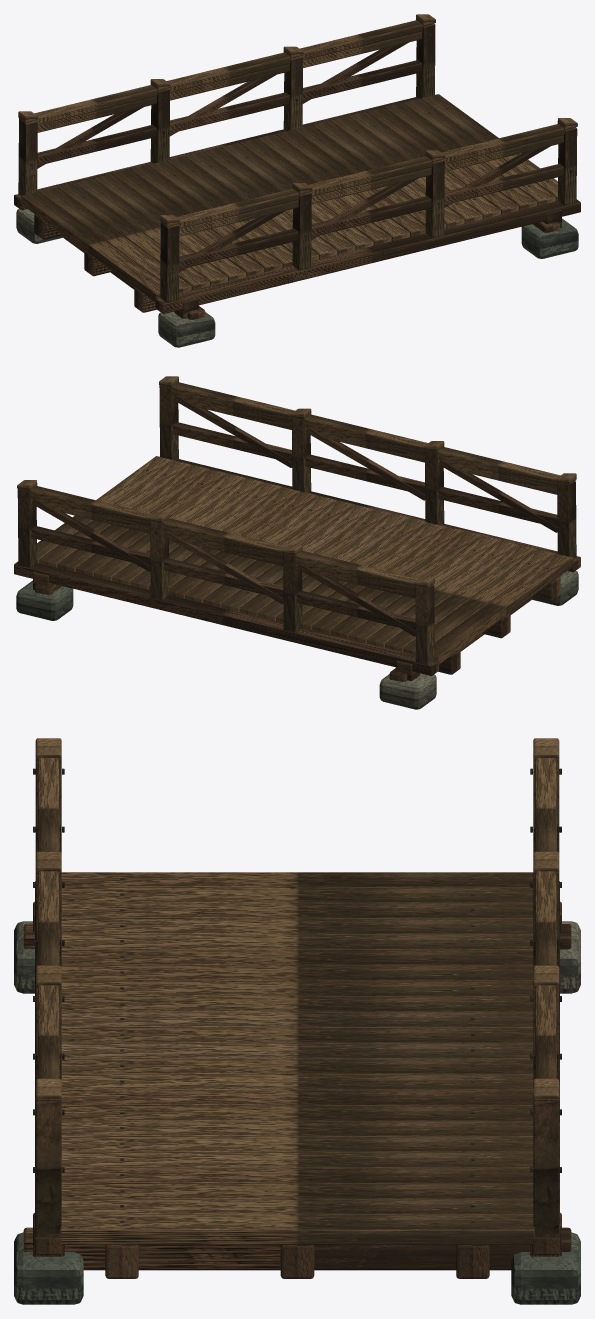
File: creek_bridge.glb
3 renders of one model, top to bottom at view 1: azimuth 30°, elevation 25°; view 2: azimuth 150°, elevation 25°; view 3: azimuth 270°, elevation 25°, orthographic. The views are drawn at different scales.
Parts seen in each view (by area): view 1: creek_bridge; view 2: creek_bridge; view 3: creek_bridge.
Part boxes in pixels (x1=…): creek_bridge: x1=14, y1=14, x2=580, y2=347; creek_bridge: x1=14, y1=376, x2=580, y2=709; creek_bridge: x1=14, y1=738, x2=580, y2=1304.
Size of the model in its own units: 5.85 by 1.69 by 3.91.
Materials: 4 (4 with a texture image).
